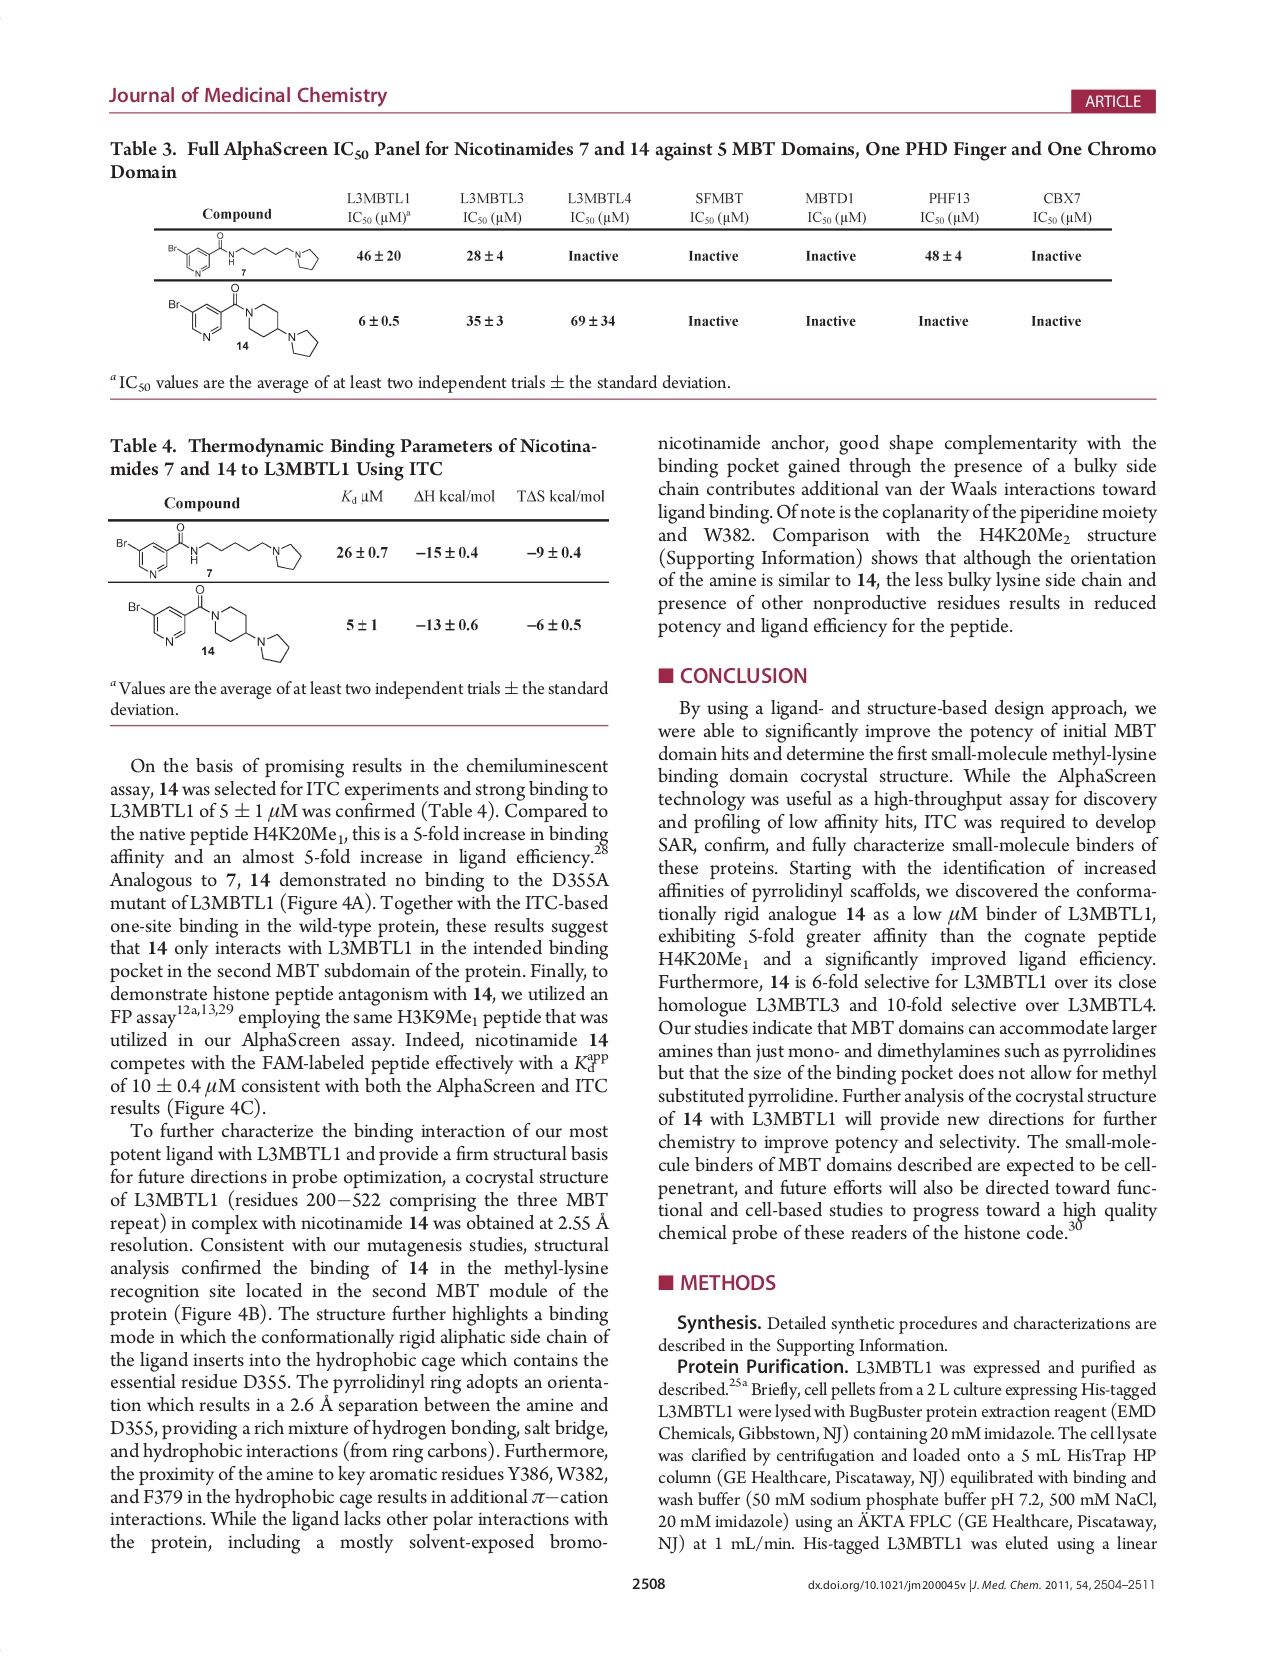exist_molecular: (122, 582, 290, 664), (166, 281, 322, 358), (112, 523, 305, 578), (162, 231, 320, 277)
